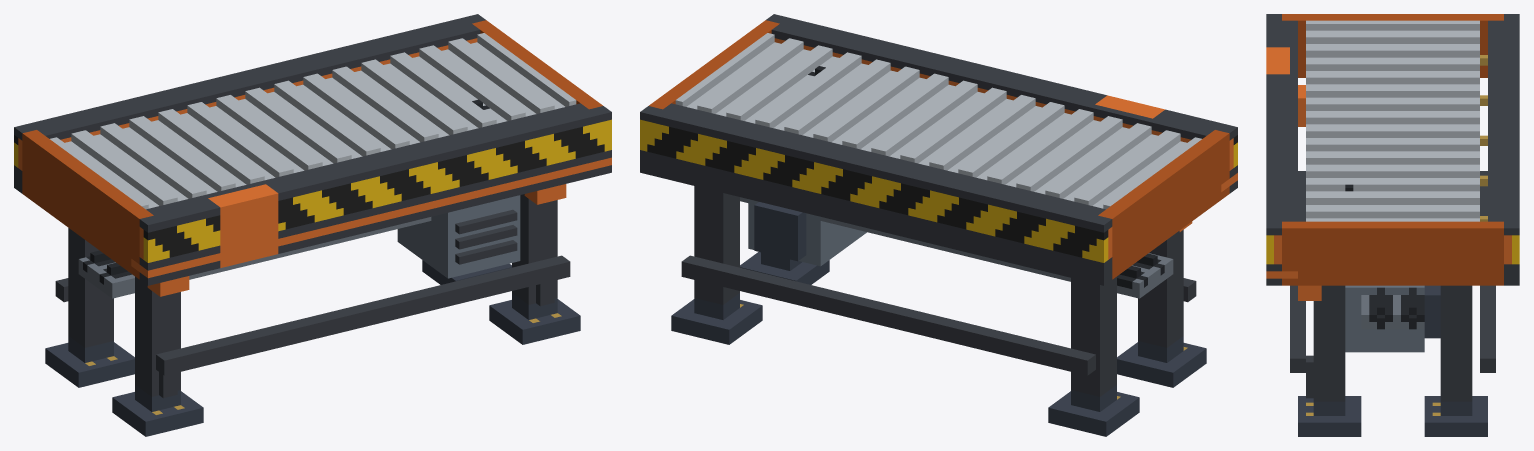
Rendered from conveyor_straight.obj.
3 renders of one model, left to right at view 1: azimuth 30°, elevation 25°; view 2: azimuth 150°, elevation 25°; view 3: azimuth 270°, elevation 25°, orthographic. The views are drawn at different scales.
Parts seen in each view (by area): view 1: conveyor_straight; view 2: conveyor_straight; view 3: conveyor_straight.
Boxes of the visible parts, x1,y1,x2,y2 form: conveyor_straight: [14, 14, 611, 436]; conveyor_straight: [640, 14, 1237, 436]; conveyor_straight: [1266, 14, 1519, 436].
Bounding box in the file's own units: 2 × 0.9375 × 1.
